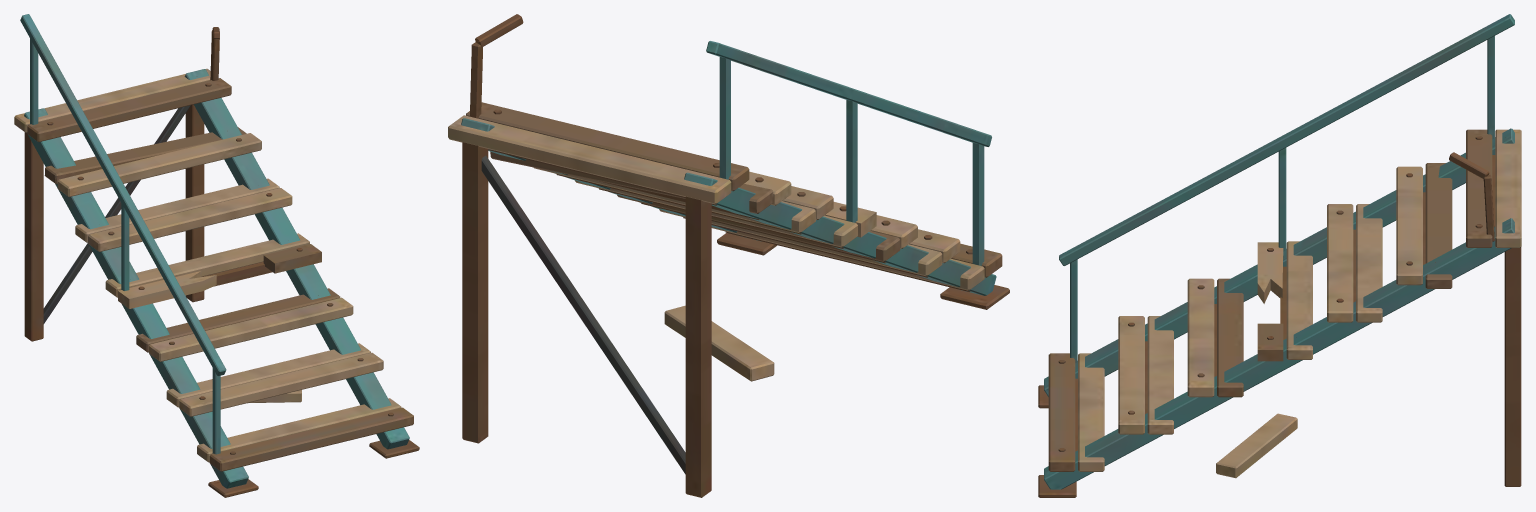
Rendered from BR19_broken_stairs_v2.glb.
3 views of the same model, side by side, from view 1: azimuth 30°, elevation 25°; view 2: azimuth 150°, elevation 25°; view 3: azimuth 270°, elevation 25° (orthographic). The views are drawn at different scales.
Visible parts, largest first — view 1: Sloping steel stringer; view 2: Sloping steel stringer; view 3: Sloping steel stringer.
Boxes of the visible parts, left/top/right/bottom form: Sloping steel stringer: left=14, top=14, right=419, bottom=497; Sloping steel stringer: left=448, top=14, right=1009, bottom=497; Sloping steel stringer: left=1038, top=14, right=1521, bottom=497.
Bounding box in the file's own units: 1.6 × 2.59 × 3.
5 materials, 5 textured.
